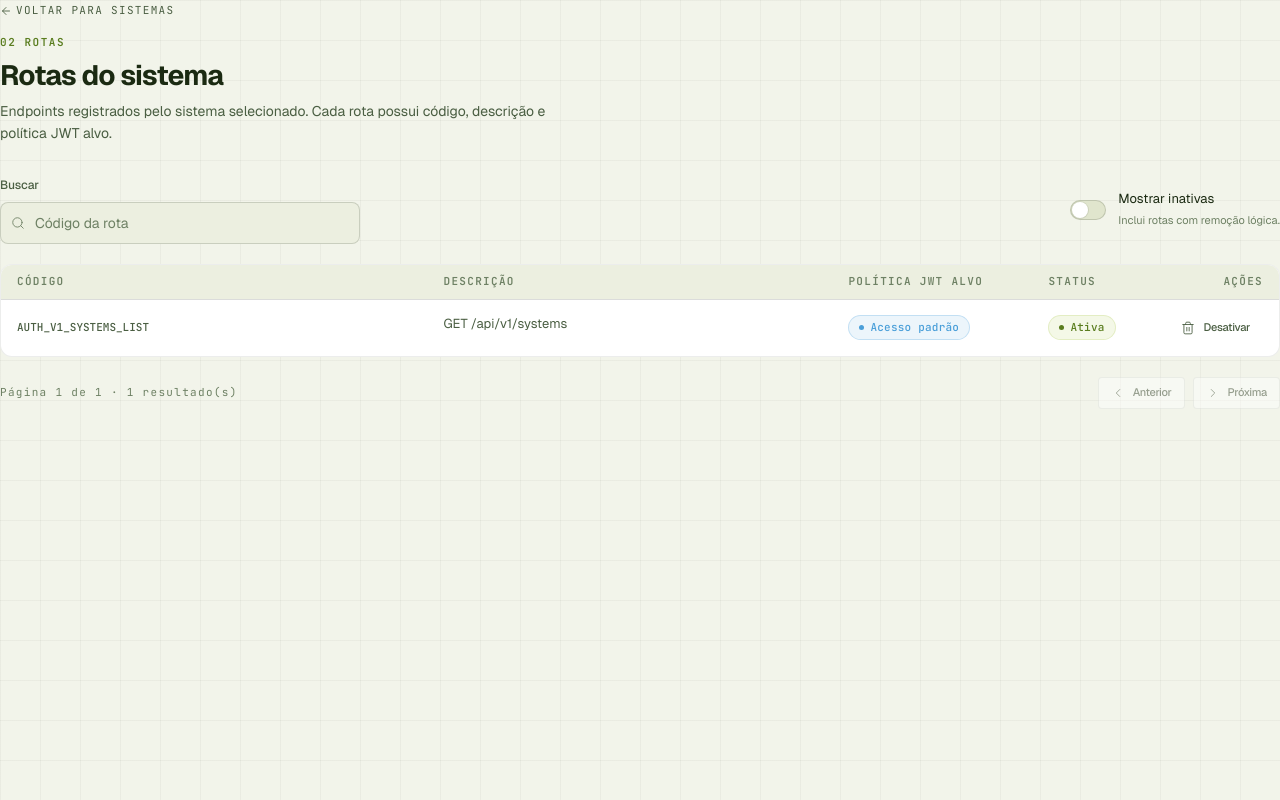
Test: RoutesPage — desativar (Issue #65) › tratamento de erros do backend › mapeia 404 (rota já removida) fecha modal, exibe toast e dispara refetch
Click the button "Desativar" at {"x": 1216, "y": 328}, box [1168,312,1263,344]
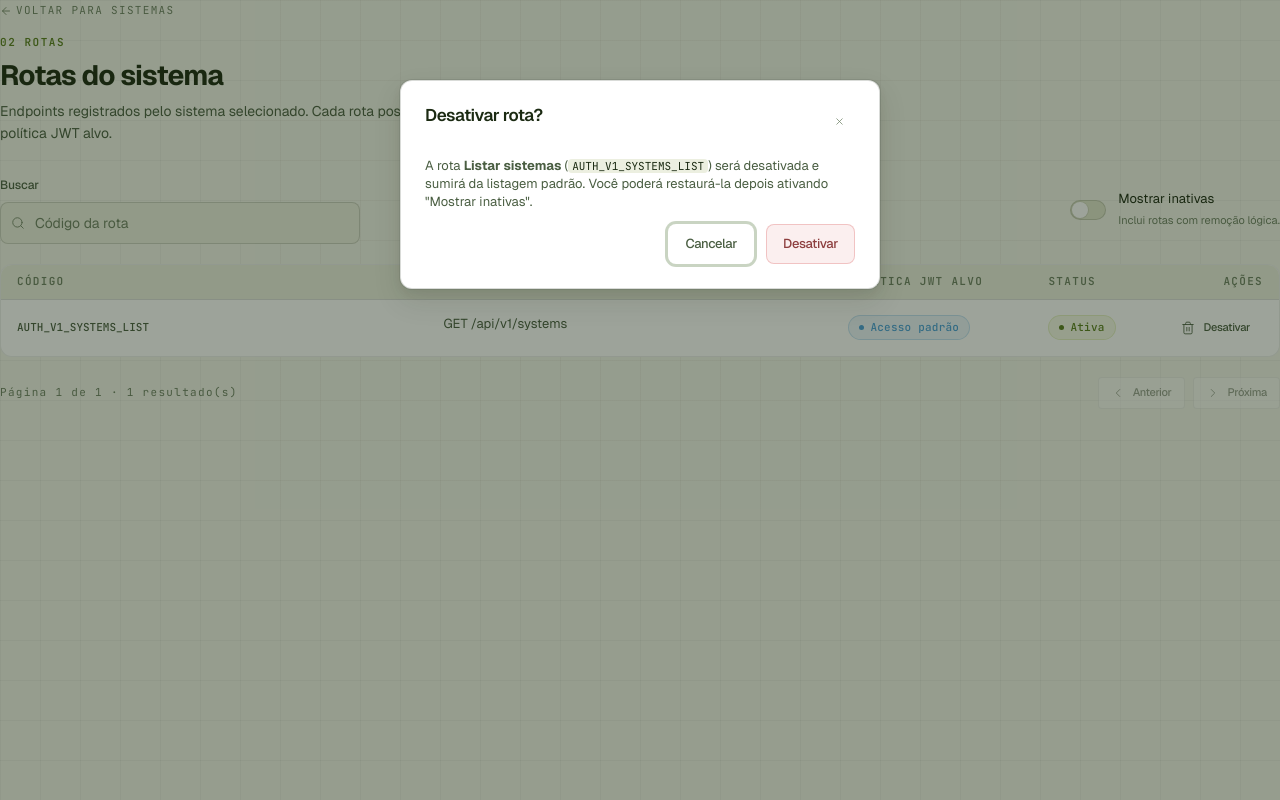
Click the button with test id "delete-route-confirm" at {"x": 810, "y": 244}, box [766,224,855,264]
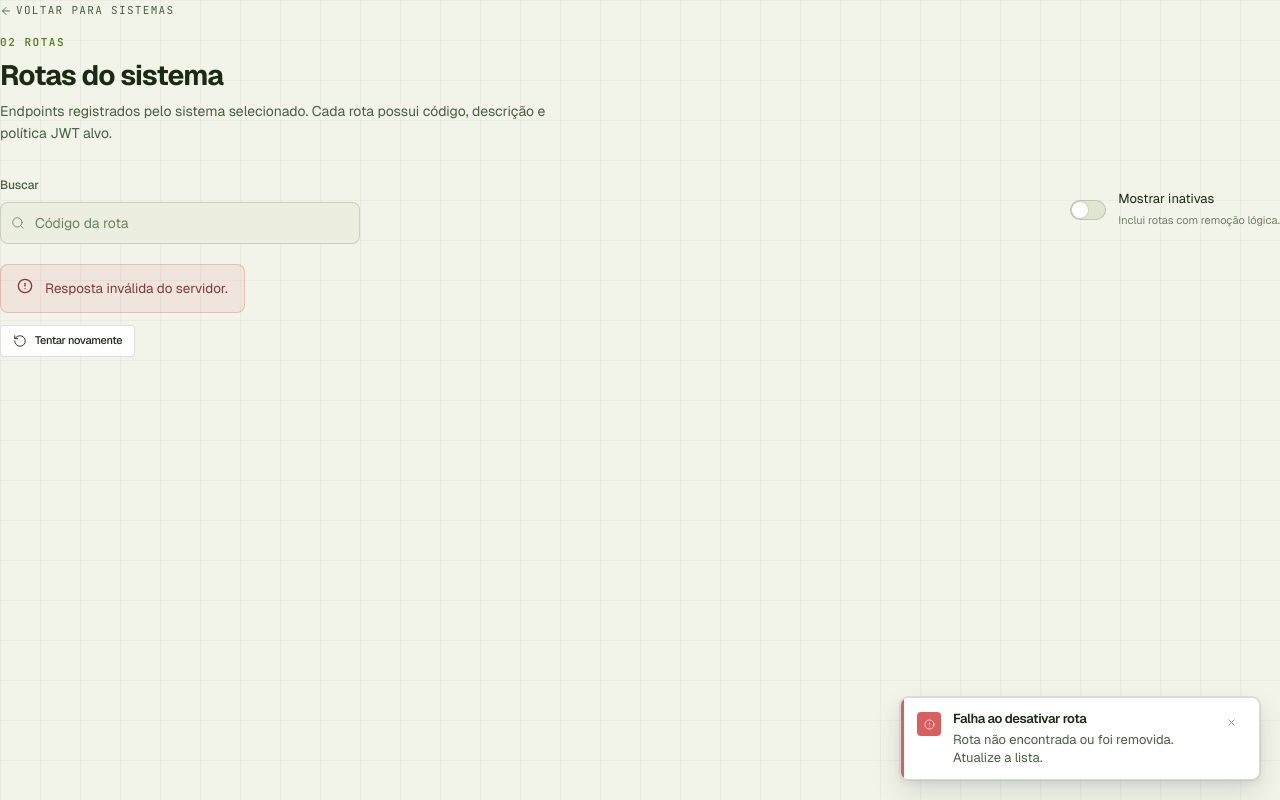
Check: the dialog is gone
